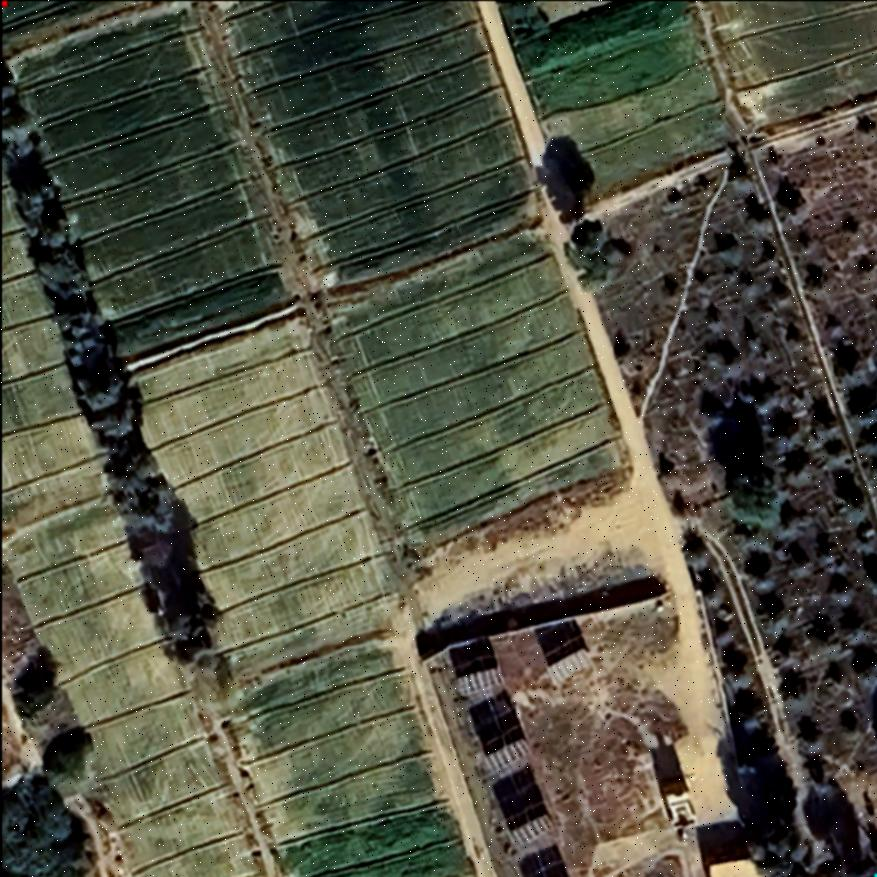Solarpanel: (542, 643, 596, 692), (477, 735, 536, 776), (450, 664, 508, 702), (502, 809, 557, 849)
